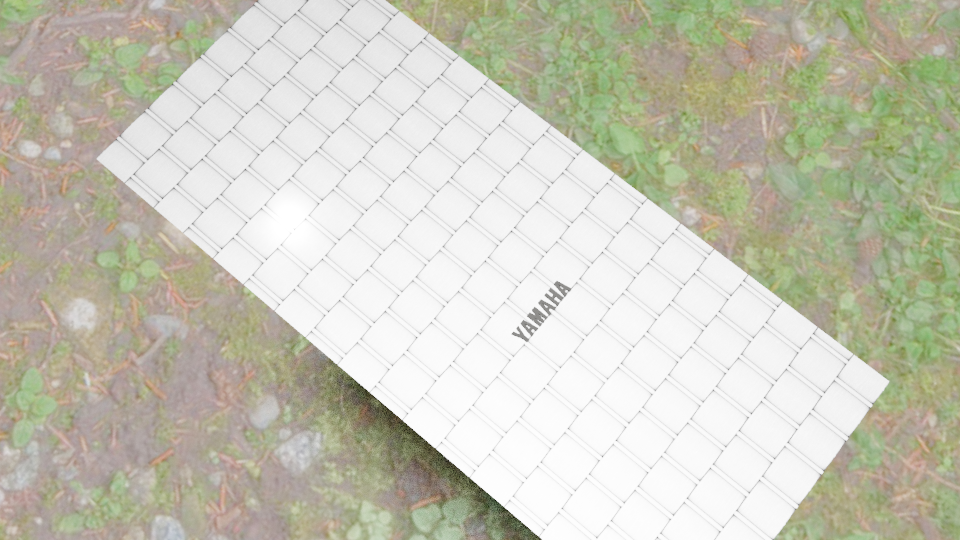yamaha_letters: (510, 280, 572, 342)
